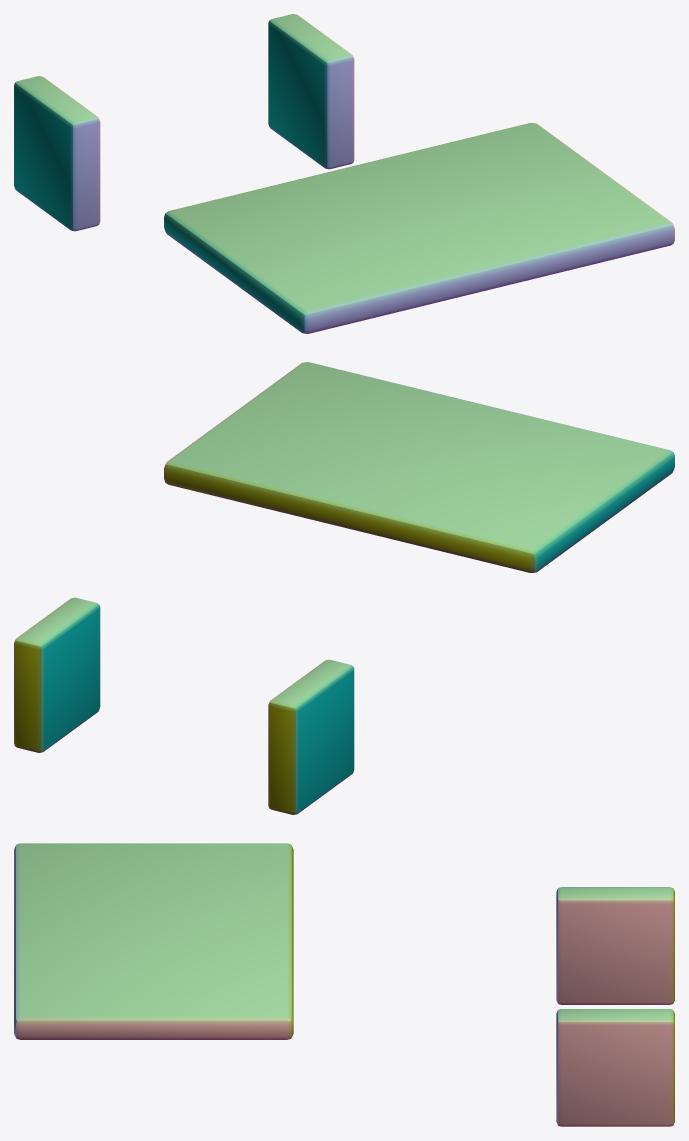
Rendered from kitchen_pickle_shelf.glb.
The picture shows the model from 3 angles, top to bottom: view 1: azimuth 30°, elevation 25°; view 2: azimuth 150°, elevation 25°; view 3: azimuth 270°, elevation 25°; orthographic projection.
Parts seen in each view (by area): view 1: kitchen_pickle_shelf; view 2: kitchen_pickle_shelf; view 3: kitchen_pickle_shelf.
Part boxes in pixels (<box>): kitchen_pickle_shelf: <box>14,14,674,333</box>; kitchen_pickle_shelf: <box>14,362,674,814</box>; kitchen_pickle_shelf: <box>14,843,674,1126</box>.
Bounding box in the file's own units: 0.5 × 0.17 × 0.78.
